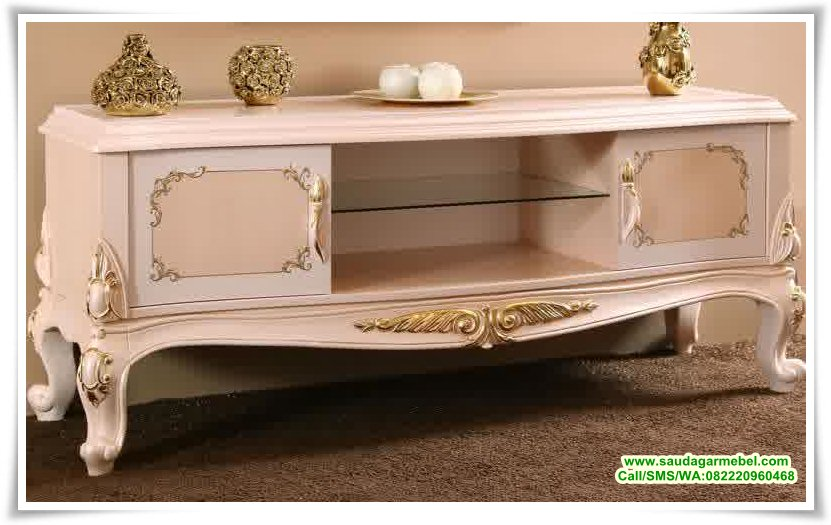Carving Table: (39, 78, 796, 430)
